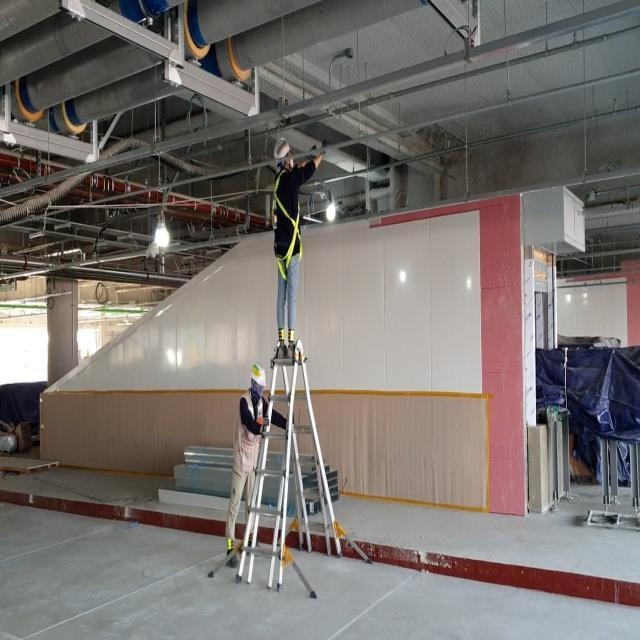Arnes_seguridad: (275, 170, 303, 279)
